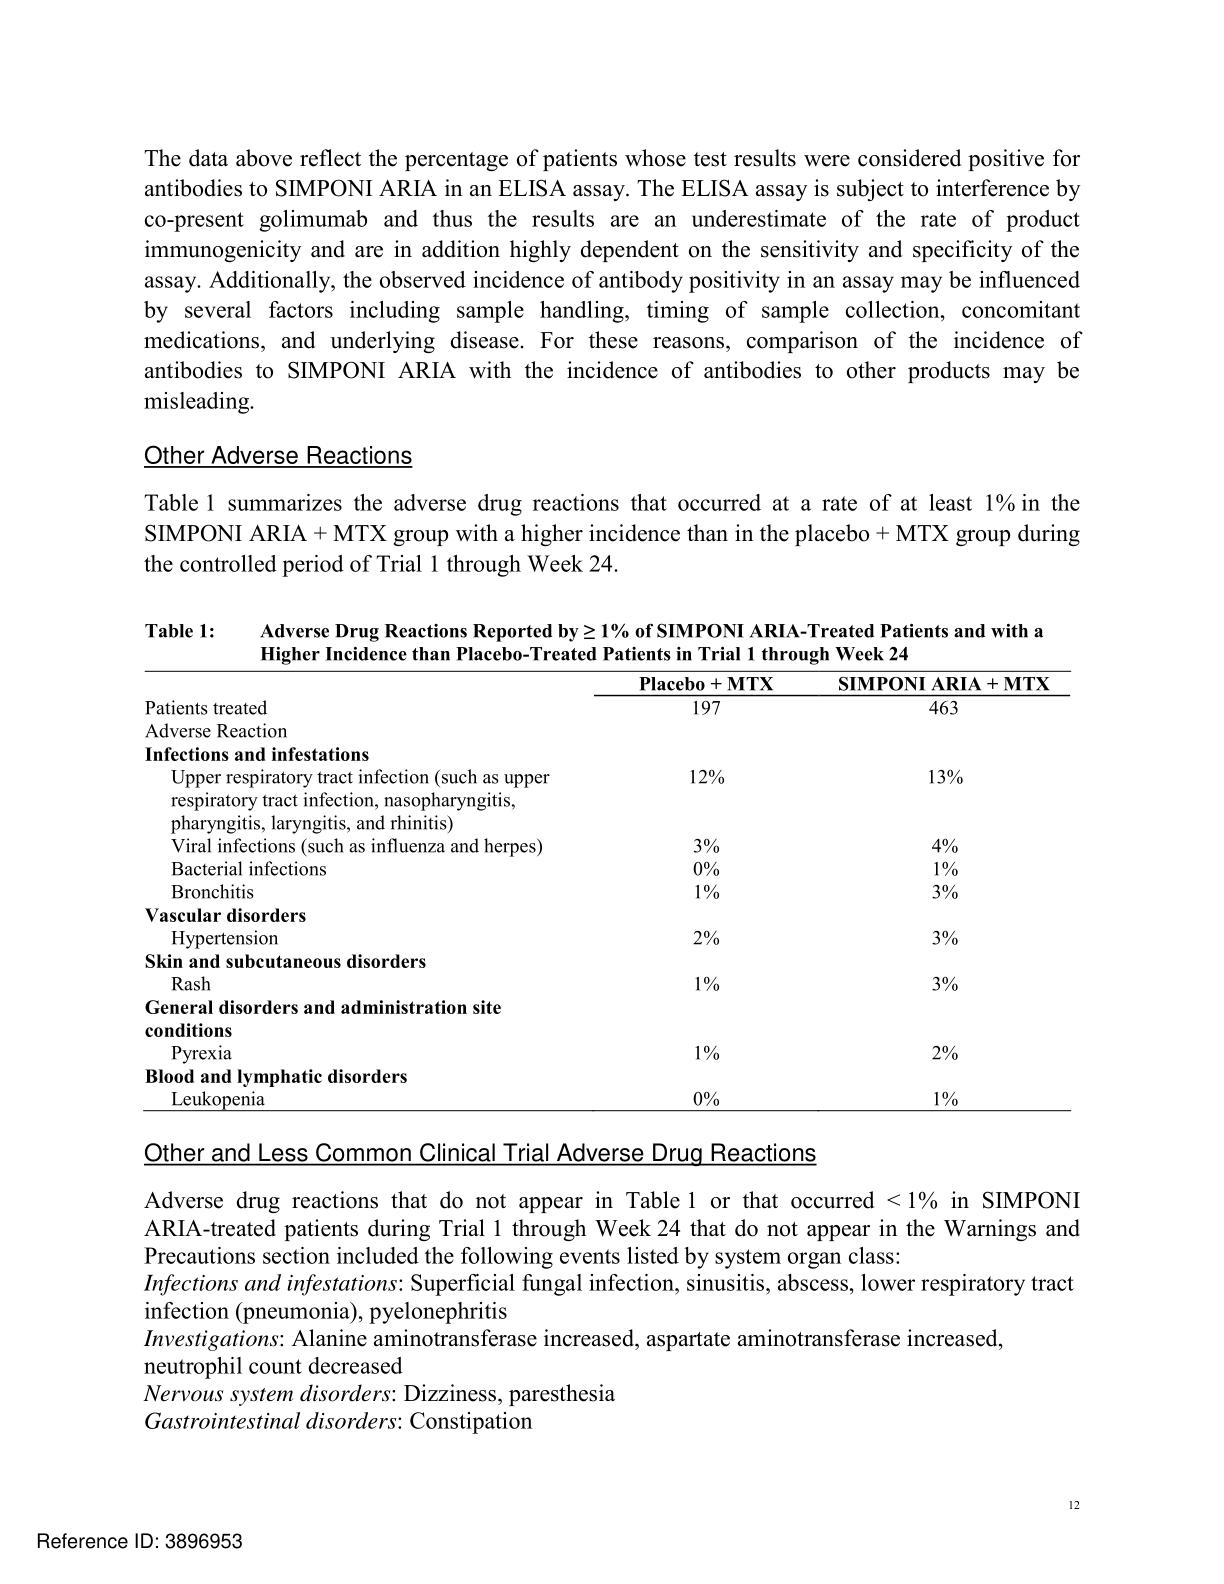partial_lined: (141, 669, 1071, 1112)
